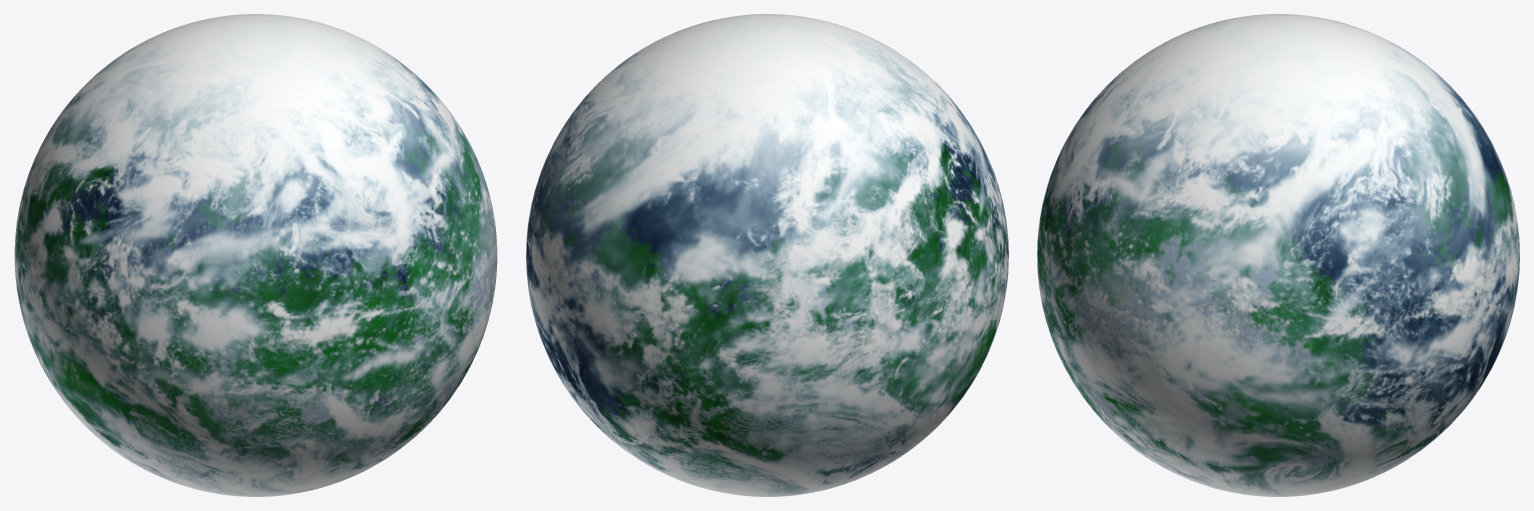
The model's file is Kepler 22 B.fbx.
The picture shows the model from 3 angles, left to right: view 1: azimuth 30°, elevation 25°; view 2: azimuth 150°, elevation 25°; view 3: azimuth 270°, elevation 25°; orthographic projection.
Parts seen in each view (by area): view 1: Nubes, Esfera; view 2: Nubes, Esfera; view 3: Nubes, Esfera.
Boxes of the visible parts, bbox=[...] form: Nubes: bbox=[14, 14, 497, 496]; Esfera: bbox=[16, 80, 496, 475]; Nubes: bbox=[526, 14, 1008, 496]; Esfera: bbox=[526, 97, 1008, 483]; Nubes: bbox=[1037, 14, 1519, 496]; Esfera: bbox=[1037, 86, 1518, 485].
Size of the model in its own units: 2006 by 2006 by 2006.
2 materials, 2 textured.
